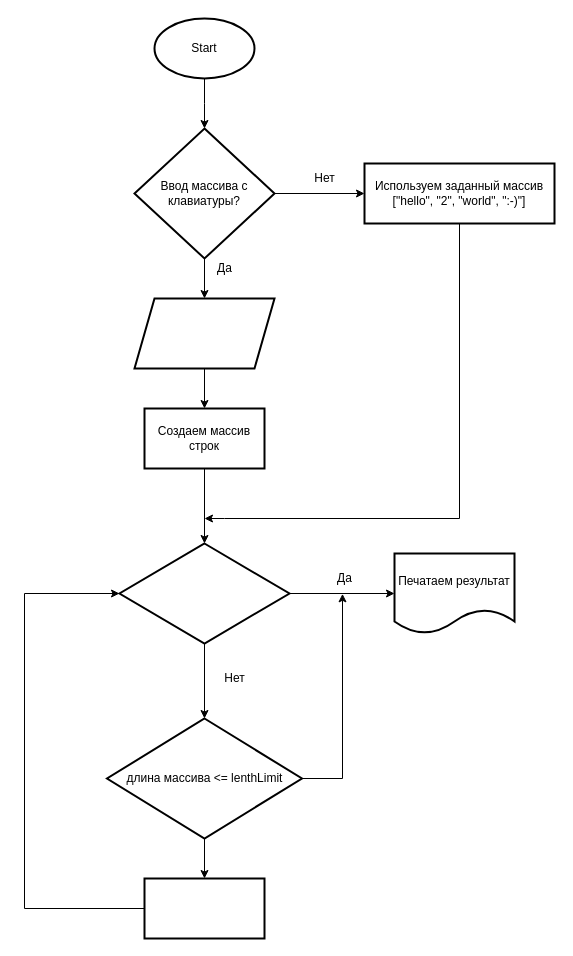
This 573x956 diagram has some shape labels left out. Each missing label, with the centre of its shape:
InputNumbers = N lengthLimit = 3: the point at 204,333
количество массивов <= N: the point at 204,593
Переходим к следующему массиву: the point at 204,908
